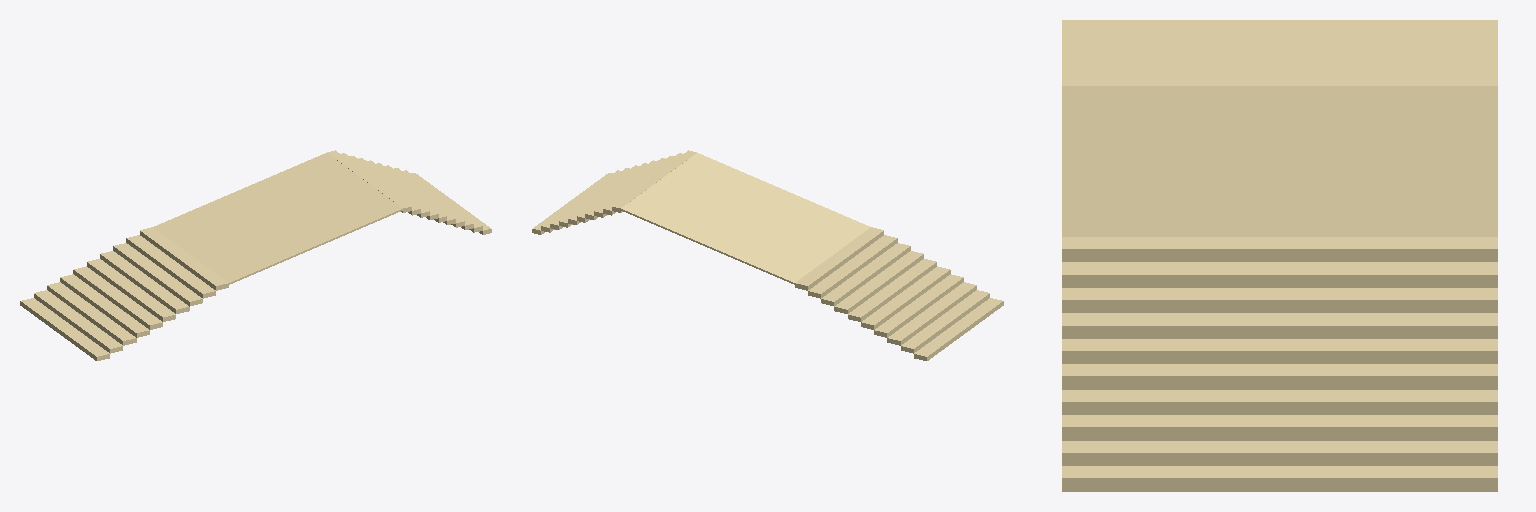
The robot description file, URDF, robot "stairs":
<?xml version="1.0" ?>
<!-- =================================================================================== -->
<!-- |    This document was autogenerated by xacro from stairs.xacro                   | -->
<!-- |    EDITING THIS FILE BY HAND IS NOT RECOMMENDED                                 | -->
<!-- =================================================================================== -->
<robot name="stairs">
  <material name="ocher">
    <color rgba="0.949 0.890 0.722 1"/>
  </material>
  <link name="world"/>
  <link name="staircase_s1_9">
    <visual>
      <geometry>
        <box size="0.15 1.5 0.05"/>
      </geometry>
      <material name="ocher"/>
    </visual>
    <collision>
      <geometry>
        <box size="0.15 1.5 0.05"/>
      </geometry>
    </collision>
    <inertial>
      <mass value="100"/>
      <inertia ixx="0.20833325000000003" ixy="0.0" ixz="0.0" iyy="18.770825825" iyz="0.0" izz="18.937492425"/>
    </inertial>
  </link>
  <gazebo reference="staircase_s1_9">
    <material>Gazebo/DarkGrey</material>
  </gazebo>
  <joint name="staircase_joint_s1_9" type="fixed">
    <parent link="world"/>
    <child link="staircase_s1_9"/>
    <origin rpy="0 0 0" xyz="0.075 0 0.025"/>
  </joint>
  <link name="staircase_s1_8">
    <visual>
      <geometry>
        <box size="0.15 1.5 0.05"/>
      </geometry>
      <material name="ocher"/>
    </visual>
    <collision>
      <geometry>
        <box size="0.15 1.5 0.05"/>
      </geometry>
    </collision>
    <inertial>
      <mass value="100"/>
      <inertia ixx="0.20833325000000003" ixy="0.0" ixz="0.0" iyy="18.770825825" iyz="0.0" izz="18.937492425"/>
    </inertial>
  </link>
  <gazebo reference="staircase_s1_8">
    <material>Gazebo/DarkGrey</material>
  </gazebo>
  <joint name="staircase_joint_s1_8" type="fixed">
    <parent link="world"/>
    <child link="staircase_s1_8"/>
    <origin rpy="0 0 0" xyz="0.22499999999999998 0 0.07500000000000001"/>
  </joint>
  <link name="staircase_s1_7">
    <visual>
      <geometry>
        <box size="0.15 1.5 0.05"/>
      </geometry>
      <material name="ocher"/>
    </visual>
    <collision>
      <geometry>
        <box size="0.15 1.5 0.05"/>
      </geometry>
    </collision>
    <inertial>
      <mass value="100"/>
      <inertia ixx="0.20833325000000003" ixy="0.0" ixz="0.0" iyy="18.770825825" iyz="0.0" izz="18.937492425"/>
    </inertial>
  </link>
  <gazebo reference="staircase_s1_7">
    <material>Gazebo/DarkGrey</material>
  </gazebo>
  <joint name="staircase_joint_s1_7" type="fixed">
    <parent link="world"/>
    <child link="staircase_s1_7"/>
    <origin rpy="0 0 0" xyz="0.375 0 0.125"/>
  </joint>
  <link name="staircase_s1_6">
    <visual>
      <geometry>
        <box size="0.15 1.5 0.05"/>
      </geometry>
      <material name="ocher"/>
    </visual>
    <collision>
      <geometry>
        <box size="0.15 1.5 0.05"/>
      </geometry>
    </collision>
    <inertial>
      <mass value="100"/>
      <inertia ixx="0.20833325000000003" ixy="0.0" ixz="0.0" iyy="18.770825825" iyz="0.0" izz="18.937492425"/>
    </inertial>
  </link>
  <gazebo reference="staircase_s1_6">
    <material>Gazebo/DarkGrey</material>
  </gazebo>
  <joint name="staircase_joint_s1_6" type="fixed">
    <parent link="world"/>
    <child link="staircase_s1_6"/>
    <origin rpy="0 0 0" xyz="0.5249999999999999 0 0.17500000000000002"/>
  </joint>
  <link name="staircase_s1_5">
    <visual>
      <geometry>
        <box size="0.15 1.5 0.05"/>
      </geometry>
      <material name="ocher"/>
    </visual>
    <collision>
      <geometry>
        <box size="0.15 1.5 0.05"/>
      </geometry>
    </collision>
    <inertial>
      <mass value="100"/>
      <inertia ixx="0.20833325000000003" ixy="0.0" ixz="0.0" iyy="18.770825825" iyz="0.0" izz="18.937492425"/>
    </inertial>
  </link>
  <gazebo reference="staircase_s1_5">
    <material>Gazebo/DarkGrey</material>
  </gazebo>
  <joint name="staircase_joint_s1_5" type="fixed">
    <parent link="world"/>
    <child link="staircase_s1_5"/>
    <origin rpy="0 0 0" xyz="0.6749999999999999 0 0.225"/>
  </joint>
  <link name="staircase_s1_4">
    <visual>
      <geometry>
        <box size="0.15 1.5 0.05"/>
      </geometry>
      <material name="ocher"/>
    </visual>
    <collision>
      <geometry>
        <box size="0.15 1.5 0.05"/>
      </geometry>
    </collision>
    <inertial>
      <mass value="100"/>
      <inertia ixx="0.20833325000000003" ixy="0.0" ixz="0.0" iyy="18.770825825" iyz="0.0" izz="18.937492425"/>
    </inertial>
  </link>
  <gazebo reference="staircase_s1_4">
    <material>Gazebo/DarkGrey</material>
  </gazebo>
  <joint name="staircase_joint_s1_4" type="fixed">
    <parent link="world"/>
    <child link="staircase_s1_4"/>
    <origin rpy="0 0 0" xyz="0.825 0 0.275"/>
  </joint>
  <link name="staircase_s1_3">
    <visual>
      <geometry>
        <box size="0.15 1.5 0.05"/>
      </geometry>
      <material name="ocher"/>
    </visual>
    <collision>
      <geometry>
        <box size="0.15 1.5 0.05"/>
      </geometry>
    </collision>
    <inertial>
      <mass value="100"/>
      <inertia ixx="0.20833325000000003" ixy="0.0" ixz="0.0" iyy="18.770825825" iyz="0.0" izz="18.937492425"/>
    </inertial>
  </link>
  <gazebo reference="staircase_s1_3">
    <material>Gazebo/DarkGrey</material>
  </gazebo>
  <joint name="staircase_joint_s1_3" type="fixed">
    <parent link="world"/>
    <child link="staircase_s1_3"/>
    <origin rpy="0 0 0" xyz="0.975 0 0.325"/>
  </joint>
  <link name="staircase_s1_2">
    <visual>
      <geometry>
        <box size="0.15 1.5 0.05"/>
      </geometry>
      <material name="ocher"/>
    </visual>
    <collision>
      <geometry>
        <box size="0.15 1.5 0.05"/>
      </geometry>
    </collision>
    <inertial>
      <mass value="100"/>
      <inertia ixx="0.20833325000000003" ixy="0.0" ixz="0.0" iyy="18.770825825" iyz="0.0" izz="18.937492425"/>
    </inertial>
  </link>
  <gazebo reference="staircase_s1_2">
    <material>Gazebo/DarkGrey</material>
  </gazebo>
  <joint name="staircase_joint_s1_2" type="fixed">
    <parent link="world"/>
    <child link="staircase_s1_2"/>
    <origin rpy="0 0 0" xyz="1.125 0 0.375"/>
  </joint>
  <link name="staircase_s1_1">
    <visual>
      <geometry>
        <box size="0.15 1.5 0.05"/>
      </geometry>
      <material name="ocher"/>
    </visual>
    <collision>
      <geometry>
        <box size="0.15 1.5 0.05"/>
      </geometry>
    </collision>
    <inertial>
      <mass value="100"/>
      <inertia ixx="0.20833325000000003" ixy="0.0" ixz="0.0" iyy="18.770825825" iyz="0.0" izz="18.937492425"/>
    </inertial>
  </link>
  <gazebo reference="staircase_s1_1">
    <material>Gazebo/DarkGrey</material>
  </gazebo>
  <joint name="staircase_joint_s1_1" type="fixed">
    <parent link="world"/>
    <child link="staircase_s1_1"/>
    <origin rpy="0 0 0" xyz="1.275 0 0.425"/>
  </joint>
  <link name="staircase_s1_0">
    <visual>
      <geometry>
        <box size="0.15 1.5 0.05"/>
      </geometry>
      <material name="ocher"/>
    </visual>
    <collision>
      <geometry>
        <box size="0.15 1.5 0.05"/>
      </geometry>
    </collision>
    <inertial>
      <mass value="100"/>
      <inertia ixx="0.20833325000000003" ixy="0.0" ixz="0.0" iyy="18.770825825" iyz="0.0" izz="18.937492425"/>
    </inertial>
  </link>
  <gazebo reference="staircase_s1_0">
    <material>Gazebo/DarkGrey</material>
  </gazebo>
  <joint name="staircase_joint_s1_0" type="fixed">
    <parent link="world"/>
    <child link="staircase_s1_0"/>
    <origin rpy="0 0 0" xyz="1.4249999999999998 0 0.475"/>
  </joint>
  <link name="ramp_s2">
    <visual>
      <geometry>
        <box size="2 1.5 0.02"/>
      </geometry>
      <material name="ocher"/>
    </visual>
    <collision>
      <geometry>
        <box size="2 1.5 0.02"/>
      </geometry>
    </collision>
    <inertial>
      <mass value="100"/>
      <inertia ixx="0" ixy="0" ixz="0" iyy="0" iyz="0" izz="0"/>
    </inertial>
  </link>
  <gazebo reference="ramp_s2">
    <material>Gazebo/DarkGrey</material>
  </gazebo>
  <joint name="ramp_joint_s2" type="fixed">
    <parent link="world"/>
    <child link="ramp_s2"/>
    <origin rpy="0 -0.17453292519943295 0" xyz="2.484807753012208 0 0.6638001001368082"/>
  </joint>
  <link name="staircase_s3_9">
    <visual>
      <geometry>
        <box size="0.1 1.5 -0.05"/>
      </geometry>
      <material name="ocher"/>
    </visual>
    <collision>
      <geometry>
        <box size="0.1 1.5 -0.05"/>
      </geometry>
    </collision>
    <inertial>
      <mass value="100"/>
      <inertia ixx="0.10416662500000003" ixy="0.0" ixz="0.0" iyy="18.770825825" iyz="0.0" izz="18.833325799999997"/>
    </inertial>
  </link>
  <gazebo reference="staircase_s3_9">
    <material>Gazebo/DarkGrey</material>
  </gazebo>
  <joint name="staircase_joint_s3_9" type="fixed">
    <parent link="world"/>
    <child link="staircase_s3_9"/>
    <origin rpy="0 0 0" xyz="3.519615506024416 0 0.8222963553338606"/>
  </joint>
  <link name="staircase_s3_8">
    <visual>
      <geometry>
        <box size="0.1 1.5 -0.05"/>
      </geometry>
      <material name="ocher"/>
    </visual>
    <collision>
      <geometry>
        <box size="0.1 1.5 -0.05"/>
      </geometry>
    </collision>
    <inertial>
      <mass value="100"/>
      <inertia ixx="0.10416662500000003" ixy="0.0" ixz="0.0" iyy="18.770825825" iyz="0.0" izz="18.833325799999997"/>
    </inertial>
  </link>
  <gazebo reference="staircase_s3_8">
    <material>Gazebo/DarkGrey</material>
  </gazebo>
  <joint name="staircase_joint_s3_8" type="fixed">
    <parent link="world"/>
    <child link="staircase_s3_8"/>
    <origin rpy="0 0 0" xyz="3.619615506024416 0 0.7722963553338605"/>
  </joint>
  <link name="staircase_s3_7">
    <visual>
      <geometry>
        <box size="0.1 1.5 -0.05"/>
      </geometry>
      <material name="ocher"/>
    </visual>
    <collision>
      <geometry>
        <box size="0.1 1.5 -0.05"/>
      </geometry>
    </collision>
    <inertial>
      <mass value="100"/>
      <inertia ixx="0.10416662500000003" ixy="0.0" ixz="0.0" iyy="18.770825825" iyz="0.0" izz="18.833325799999997"/>
    </inertial>
  </link>
  <gazebo reference="staircase_s3_7">
    <material>Gazebo/DarkGrey</material>
  </gazebo>
  <joint name="staircase_joint_s3_7" type="fixed">
    <parent link="world"/>
    <child link="staircase_s3_7"/>
    <origin rpy="0 0 0" xyz="3.7196155060244163 0 0.7222963553338605"/>
  </joint>
  <link name="staircase_s3_6">
    <visual>
      <geometry>
        <box size="0.1 1.5 -0.05"/>
      </geometry>
      <material name="ocher"/>
    </visual>
    <collision>
      <geometry>
        <box size="0.1 1.5 -0.05"/>
      </geometry>
    </collision>
    <inertial>
      <mass value="100"/>
      <inertia ixx="0.10416662500000003" ixy="0.0" ixz="0.0" iyy="18.770825825" iyz="0.0" izz="18.833325799999997"/>
    </inertial>
  </link>
  <gazebo reference="staircase_s3_6">
    <material>Gazebo/DarkGrey</material>
  </gazebo>
  <joint name="staircase_joint_s3_6" type="fixed">
    <parent link="world"/>
    <child link="staircase_s3_6"/>
    <origin rpy="0 0 0" xyz="3.8196155060244164 0 0.6722963553338605"/>
  </joint>
  <link name="staircase_s3_5">
    <visual>
      <geometry>
        <box size="0.1 1.5 -0.05"/>
      </geometry>
      <material name="ocher"/>
    </visual>
    <collision>
      <geometry>
        <box size="0.1 1.5 -0.05"/>
      </geometry>
    </collision>
    <inertial>
      <mass value="100"/>
      <inertia ixx="0.10416662500000003" ixy="0.0" ixz="0.0" iyy="18.770825825" iyz="0.0" izz="18.833325799999997"/>
    </inertial>
  </link>
  <gazebo reference="staircase_s3_5">
    <material>Gazebo/DarkGrey</material>
  </gazebo>
  <joint name="staircase_joint_s3_5" type="fixed">
    <parent link="world"/>
    <child link="staircase_s3_5"/>
    <origin rpy="0 0 0" xyz="3.9196155060244164 0 0.6222963553338604"/>
  </joint>
  <link name="staircase_s3_4">
    <visual>
      <geometry>
        <box size="0.1 1.5 -0.05"/>
      </geometry>
      <material name="ocher"/>
    </visual>
    <collision>
      <geometry>
        <box size="0.1 1.5 -0.05"/>
      </geometry>
    </collision>
    <inertial>
      <mass value="100"/>
      <inertia ixx="0.10416662500000003" ixy="0.0" ixz="0.0" iyy="18.770825825" iyz="0.0" izz="18.833325799999997"/>
    </inertial>
  </link>
  <gazebo reference="staircase_s3_4">
    <material>Gazebo/DarkGrey</material>
  </gazebo>
  <joint name="staircase_joint_s3_4" type="fixed">
    <parent link="world"/>
    <child link="staircase_s3_4"/>
    <origin rpy="0 0 0" xyz="4.019615506024417 0 0.5722963553338604"/>
  </joint>
  <link name="staircase_s3_3">
    <visual>
      <geometry>
        <box size="0.1 1.5 -0.05"/>
      </geometry>
      <material name="ocher"/>
    </visual>
    <collision>
      <geometry>
        <box size="0.1 1.5 -0.05"/>
      </geometry>
    </collision>
    <inertial>
      <mass value="100"/>
      <inertia ixx="0.10416662500000003" ixy="0.0" ixz="0.0" iyy="18.770825825" iyz="0.0" izz="18.833325799999997"/>
    </inertial>
  </link>
  <gazebo reference="staircase_s3_3">
    <material>Gazebo/DarkGrey</material>
  </gazebo>
  <joint name="staircase_joint_s3_3" type="fixed">
    <parent link="world"/>
    <child link="staircase_s3_3"/>
    <origin rpy="0 0 0" xyz="4.119615506024417 0 0.5222963553338603"/>
  </joint>
  <link name="staircase_s3_2">
    <visual>
      <geometry>
        <box size="0.1 1.5 -0.05"/>
      </geometry>
      <material name="ocher"/>
    </visual>
    <collision>
      <geometry>
        <box size="0.1 1.5 -0.05"/>
      </geometry>
    </collision>
    <inertial>
      <mass value="100"/>
      <inertia ixx="0.10416662500000003" ixy="0.0" ixz="0.0" iyy="18.770825825" iyz="0.0" izz="18.833325799999997"/>
    </inertial>
  </link>
  <gazebo reference="staircase_s3_2">
    <material>Gazebo/DarkGrey</material>
  </gazebo>
  <joint name="staircase_joint_s3_2" type="fixed">
    <parent link="world"/>
    <child link="staircase_s3_2"/>
    <origin rpy="0 0 0" xyz="4.219615506024416 0 0.47229635533386033"/>
  </joint>
  <link name="staircase_s3_1">
    <visual>
      <geometry>
        <box size="0.1 1.5 -0.05"/>
      </geometry>
      <material name="ocher"/>
    </visual>
    <collision>
      <geometry>
        <box size="0.1 1.5 -0.05"/>
      </geometry>
    </collision>
    <inertial>
      <mass value="100"/>
      <inertia ixx="0.10416662500000003" ixy="0.0" ixz="0.0" iyy="18.770825825" iyz="0.0" izz="18.833325799999997"/>
    </inertial>
  </link>
  <gazebo reference="staircase_s3_1">
    <material>Gazebo/DarkGrey</material>
  </gazebo>
  <joint name="staircase_joint_s3_1" type="fixed">
    <parent link="world"/>
    <child link="staircase_s3_1"/>
    <origin rpy="0 0 0" xyz="4.319615506024416 0 0.42229635533386034"/>
  </joint>
  <link name="staircase_s3_0">
    <visual>
      <geometry>
        <box size="0.1 1.5 -0.05"/>
      </geometry>
      <material name="ocher"/>
    </visual>
    <collision>
      <geometry>
        <box size="0.1 1.5 -0.05"/>
      </geometry>
    </collision>
    <inertial>
      <mass value="100"/>
      <inertia ixx="0.10416662500000003" ixy="0.0" ixz="0.0" iyy="18.770825825" iyz="0.0" izz="18.833325799999997"/>
    </inertial>
  </link>
  <gazebo reference="staircase_s3_0">
    <material>Gazebo/DarkGrey</material>
  </gazebo>
  <joint name="staircase_joint_s3_0" type="fixed">
    <parent link="world"/>
    <child link="staircase_s3_0"/>
    <origin rpy="0 0 0" xyz="4.4196155060244156 0 0.37229635533386035"/>
  </joint>
</robot>

--- What the picture shows (computed from the rendered views, not written in the file) ---
The picture shows the robot from 3 angles, left to right: view 1: azimuth 30°, elevation 25°; view 2: azimuth 150°, elevation 25°; view 3: azimuth 270°, elevation 25°; orthographic projection.
Robot: stairs — 22 links, 21 joints (21 fixed); root link world; default pose: all joints at 0.
Links seen in each view (by area): view 1: ramp_s2, staircase_s1_6, staircase_s1_7, staircase_s1_1, staircase_s1_9, staircase_s1_2, staircase_s1_5, staircase_s1_3, staircase_s1_8, staircase_s1_4, staircase_s1_0, staircase_s3_9; view 2: ramp_s2, staircase_s1_6, staircase_s1_7, staircase_s1_1, staircase_s1_9, staircase_s1_2, staircase_s1_5, staircase_s1_3, staircase_s1_8, staircase_s1_4, staircase_s1_0, staircase_s3_9; view 3: ramp_s2, staircase_s3_8, staircase_s3_6, staircase_s3_4, staircase_s3_2, staircase_s3_0, staircase_s3_9, staircase_s3_7, staircase_s3_5, staircase_s3_3, staircase_s3_1, staircase_s1_0 (+9 smaller).
Link boxes in pixels (x1,y1,x2,y2): ramp_s2: [153, 153, 402, 284]; staircase_s1_6: [60, 274, 149, 337]; staircase_s1_7: [47, 282, 136, 345]; staircase_s1_1: [126, 235, 215, 298]; staircase_s1_9: [20, 298, 109, 360]; staircase_s1_2: [113, 243, 202, 306]; staircase_s1_5: [73, 266, 162, 329]; staircase_s1_3: [100, 251, 189, 313]; staircase_s1_8: [34, 290, 122, 353]; staircase_s1_4: [87, 259, 175, 321]; staircase_s1_0: [140, 227, 228, 290]; staircase_s3_9: [327, 150, 411, 212]; ramp_s2: [621, 153, 870, 284]; staircase_s1_6: [874, 274, 963, 337]; staircase_s1_7: [887, 282, 976, 345]; staircase_s1_1: [808, 235, 897, 298]; staircase_s1_9: [914, 298, 1003, 360]; staircase_s1_2: [821, 243, 910, 306]; staircase_s1_5: [861, 266, 950, 329]; staircase_s1_3: [834, 251, 923, 313]; staircase_s1_8: [901, 290, 989, 353]; staircase_s1_4: [848, 259, 936, 321]; staircase_s1_0: [795, 227, 883, 290]; staircase_s3_9: [612, 150, 696, 212]; ramp_s2: [1062, 86, 1497, 236]; staircase_s3_8: [1062, 262, 1497, 287]; staircase_s3_6: [1062, 313, 1497, 338]; staircase_s3_4: [1062, 364, 1497, 389]; staircase_s3_2: [1062, 415, 1497, 440]; staircase_s3_0: [1062, 466, 1497, 491]; staircase_s3_9: [1062, 237, 1497, 261]; staircase_s3_7: [1062, 288, 1497, 312]; staircase_s3_5: [1062, 339, 1497, 363]; staircase_s3_3: [1062, 390, 1497, 414]; staircase_s3_1: [1062, 441, 1497, 465]; staircase_s1_0: [1062, 68, 1497, 85].
Size in the robot's own frame: 4.47 by 1.5 by 0.8473 metres.
Geometry: primitives only (box / cylinder / sphere), no mesh files.